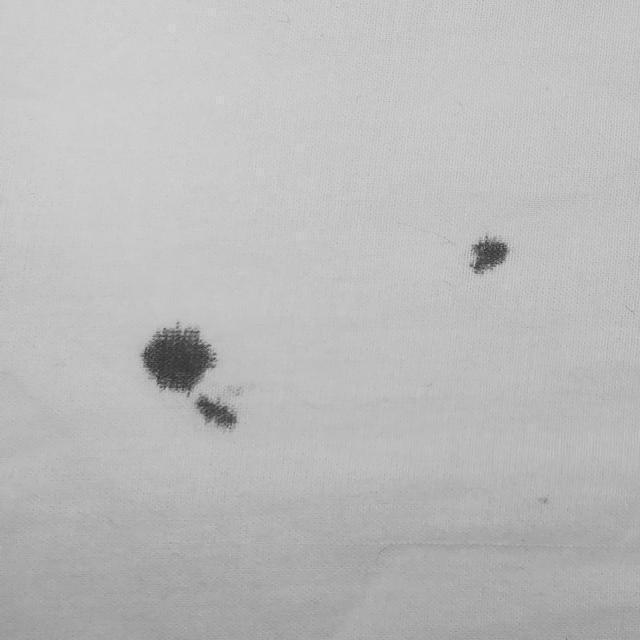Stain: (139, 320, 216, 395), (464, 231, 512, 277), (190, 394, 241, 434)
